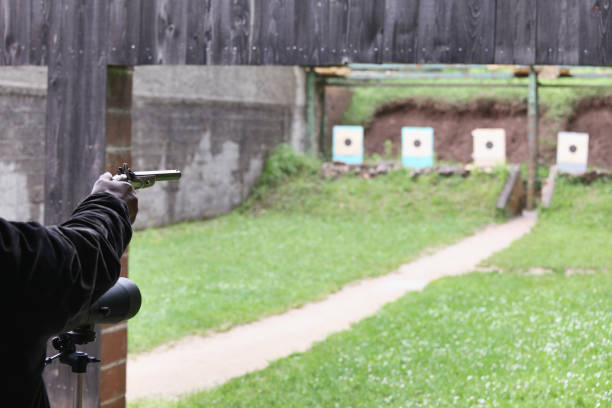gun: (112, 161, 183, 191)
